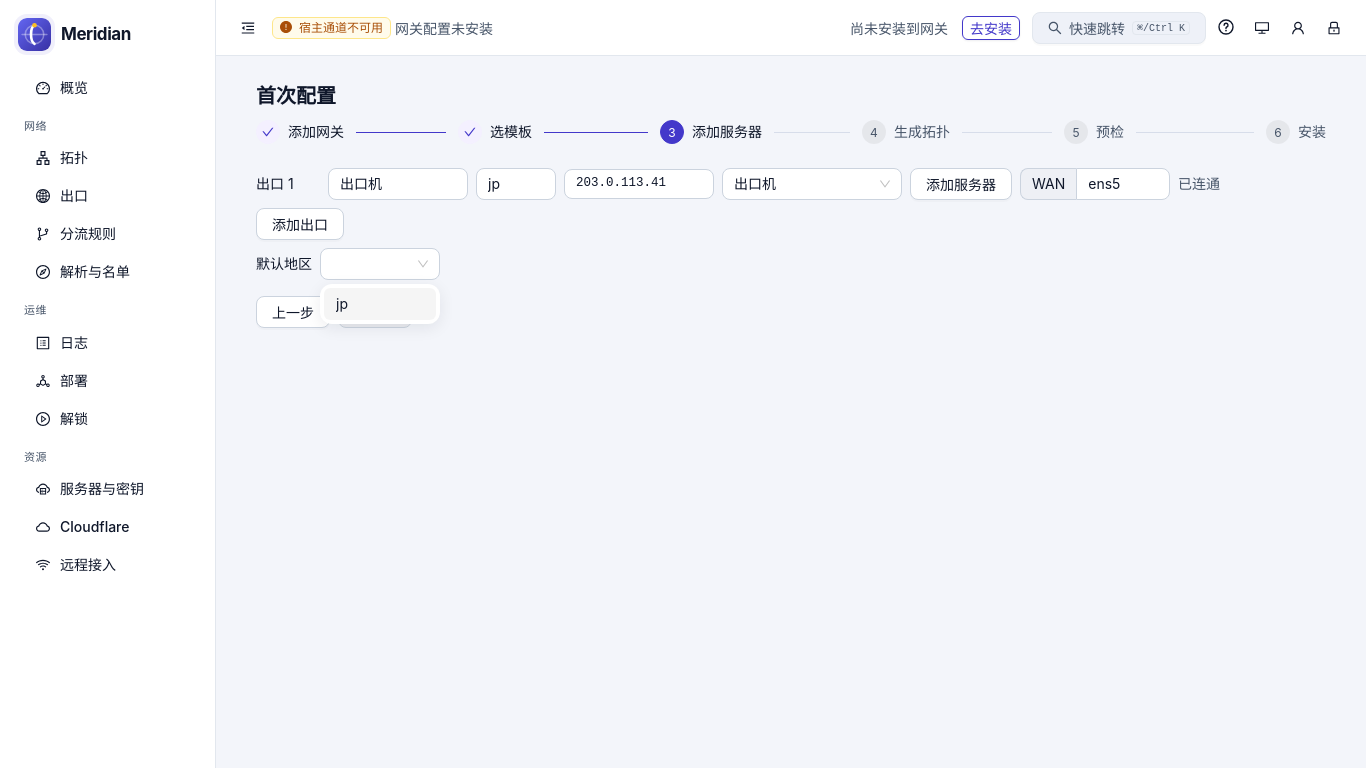
setup wizard › servers step: credential, fingerprint confirmation and connection test before going on
This screenshot has width=1366, height=768.
Earlier steps of the test are not shown.
Click the element titled "jp".
click(380, 304)  # box top-left (324, 288), bottom-right (436, 320)
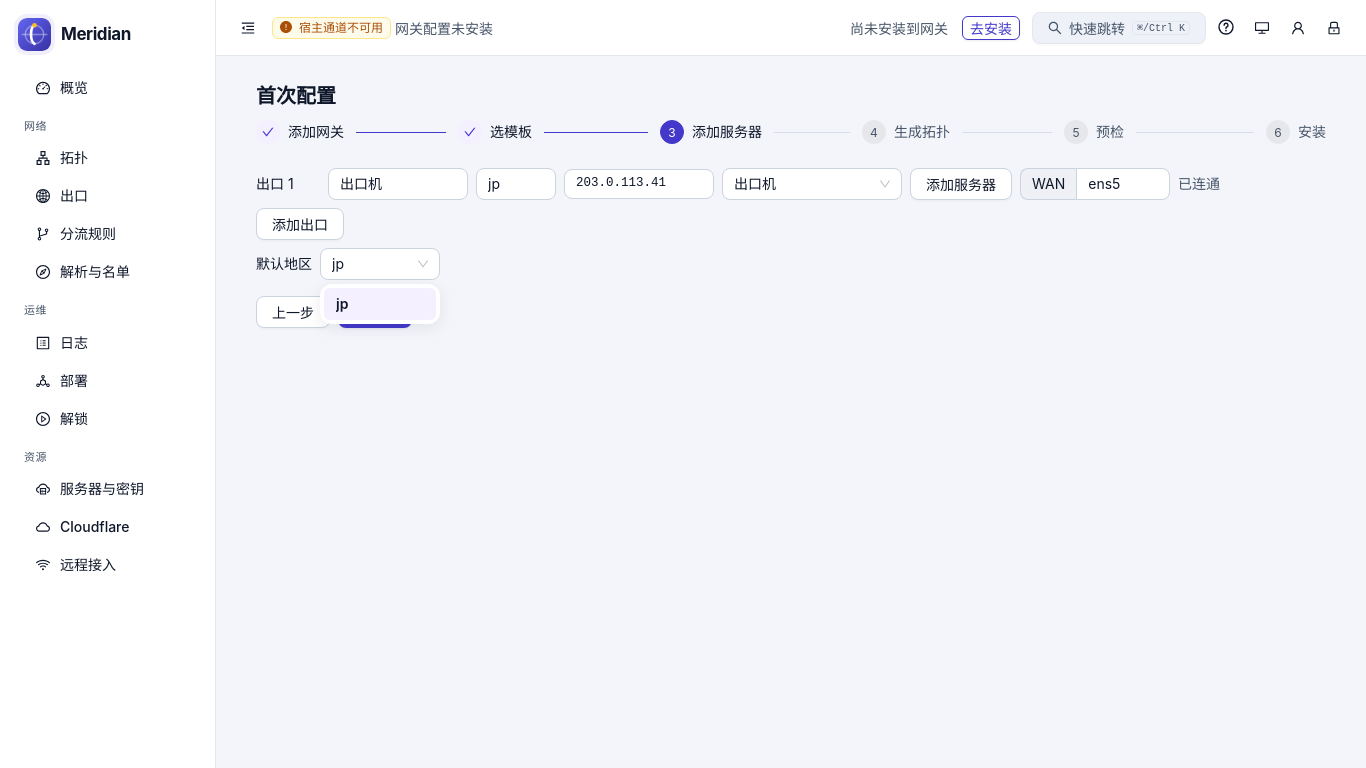
Check: the button "下一步" is enabled
Click the button "下一步".
click(375, 312)  # box top-left (338, 296), bottom-right (412, 328)
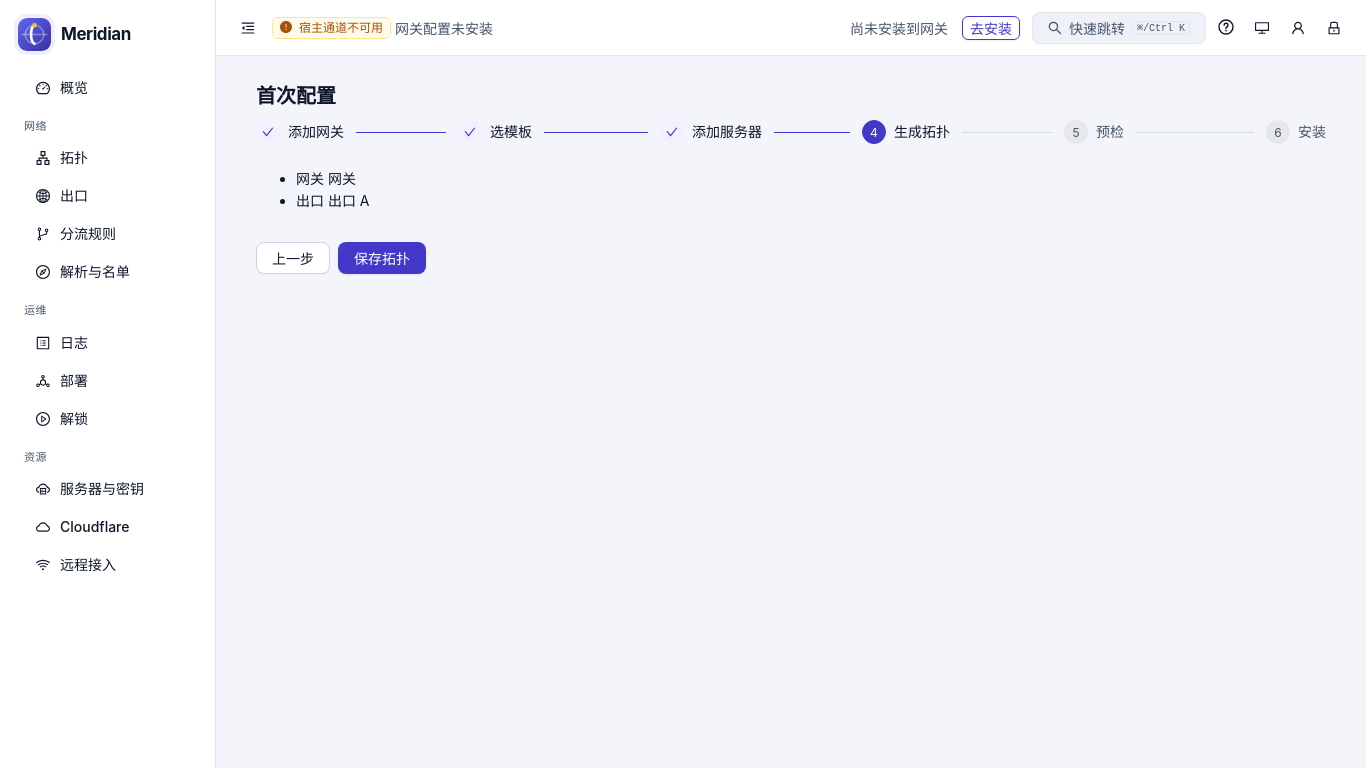
Check: the element with test id "wizard-step-topology" is shown, box top-left (256, 170), bottom-right (426, 274)
